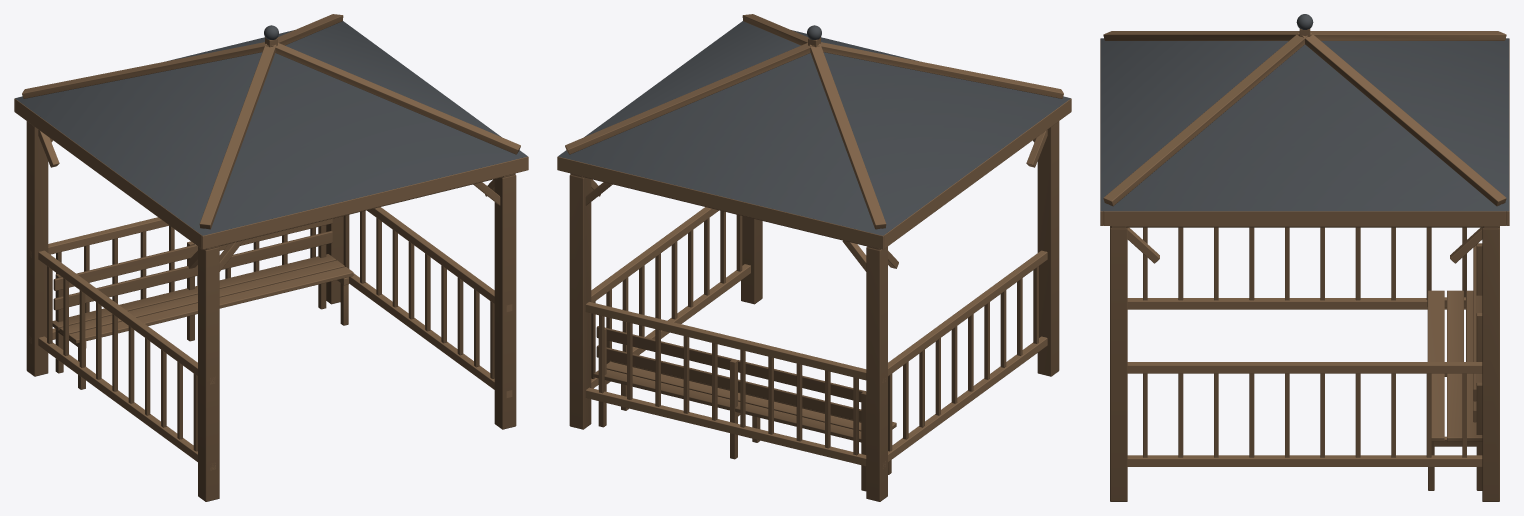
The model's file is gazebo.glb.
3 renders of one model, left to right at view 1: azimuth 30°, elevation 25°; view 2: azimuth 150°, elevation 25°; view 3: azimuth 270°, elevation 25°, orthographic. The views are drawn at different scales.
Visible parts, largest first — view 1: body; view 2: body; view 3: body.
Part boxes in pixels (x1=…): body: x1=14, y1=14, x2=528, y2=501; body: x1=557, y1=14, x2=1071, y2=501; body: x1=1100, y1=14, x2=1509, y2=501.
Size of the model in its own units: 2.98 by 3.25 by 2.98.
